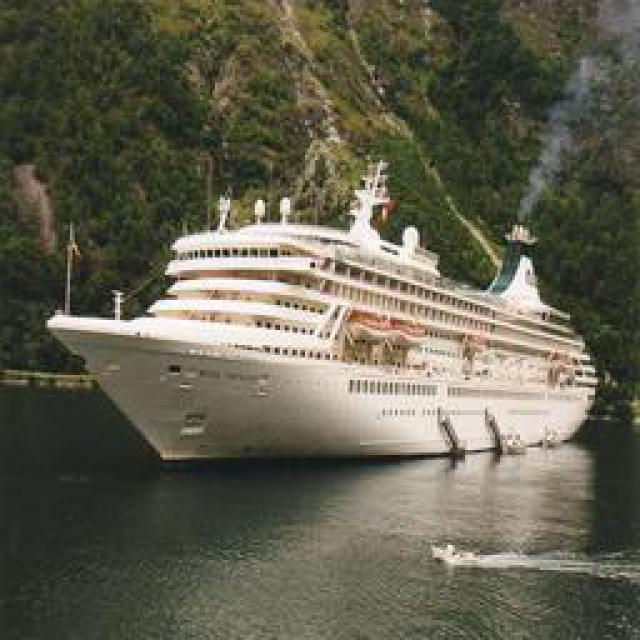Ship: (57, 175, 600, 465)
